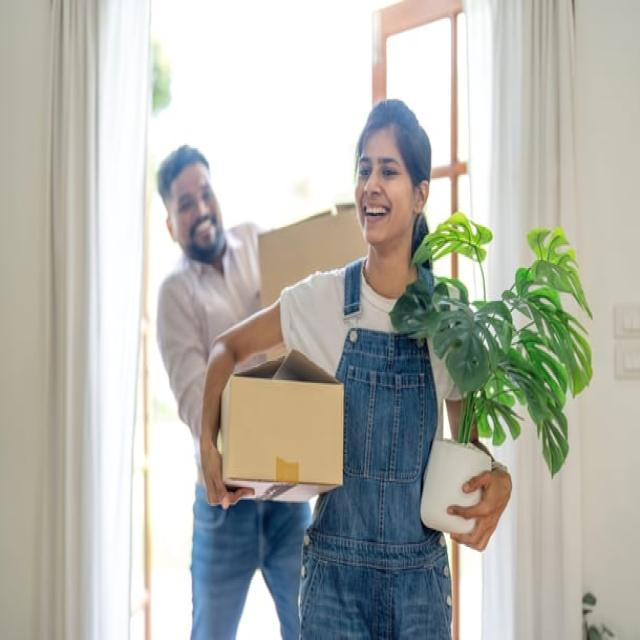human: (337, 92, 446, 272), (148, 131, 236, 270)
